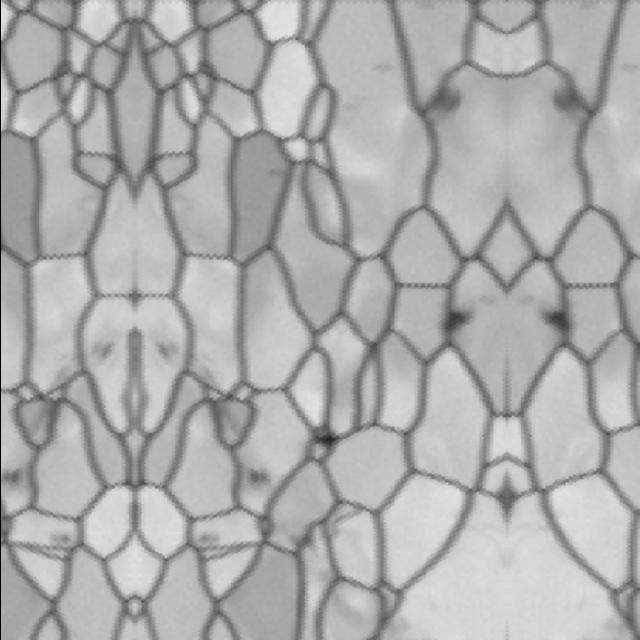good_void: (537, 74, 592, 130), (420, 73, 474, 129), (533, 297, 578, 343), (433, 298, 476, 343), (142, 330, 184, 372), (39, 520, 74, 556), (82, 335, 117, 363), (191, 524, 225, 552), (306, 427, 338, 453), (367, 58, 394, 81), (0, 465, 27, 487), (240, 467, 268, 487), (617, 59, 640, 80)
